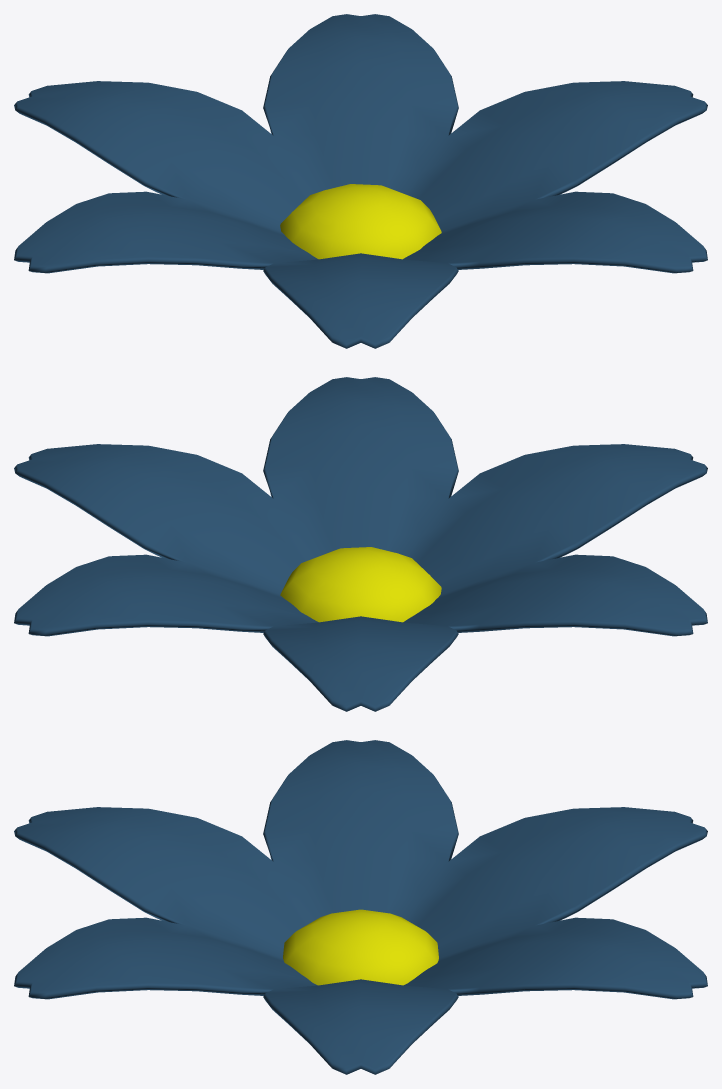
File: ModularFlower_WhiteFlower00.fbx
The picture shows the model from 3 angles, top to bottom: view 1: azimuth 30°, elevation 25°; view 2: azimuth 150°, elevation 25°; view 3: azimuth 270°, elevation 25°; orthographic projection.
Visible parts, largest first — view 1: WhiteFlower; view 2: WhiteFlower; view 3: WhiteFlower.
Part boxes in pixels (x1,y1,x2,y2): WhiteFlower: (14, 14, 707, 348); WhiteFlower: (14, 377, 707, 711); WhiteFlower: (14, 740, 707, 1074).
Bounding box in the file's own units: 542 × 64.45 × 480.
